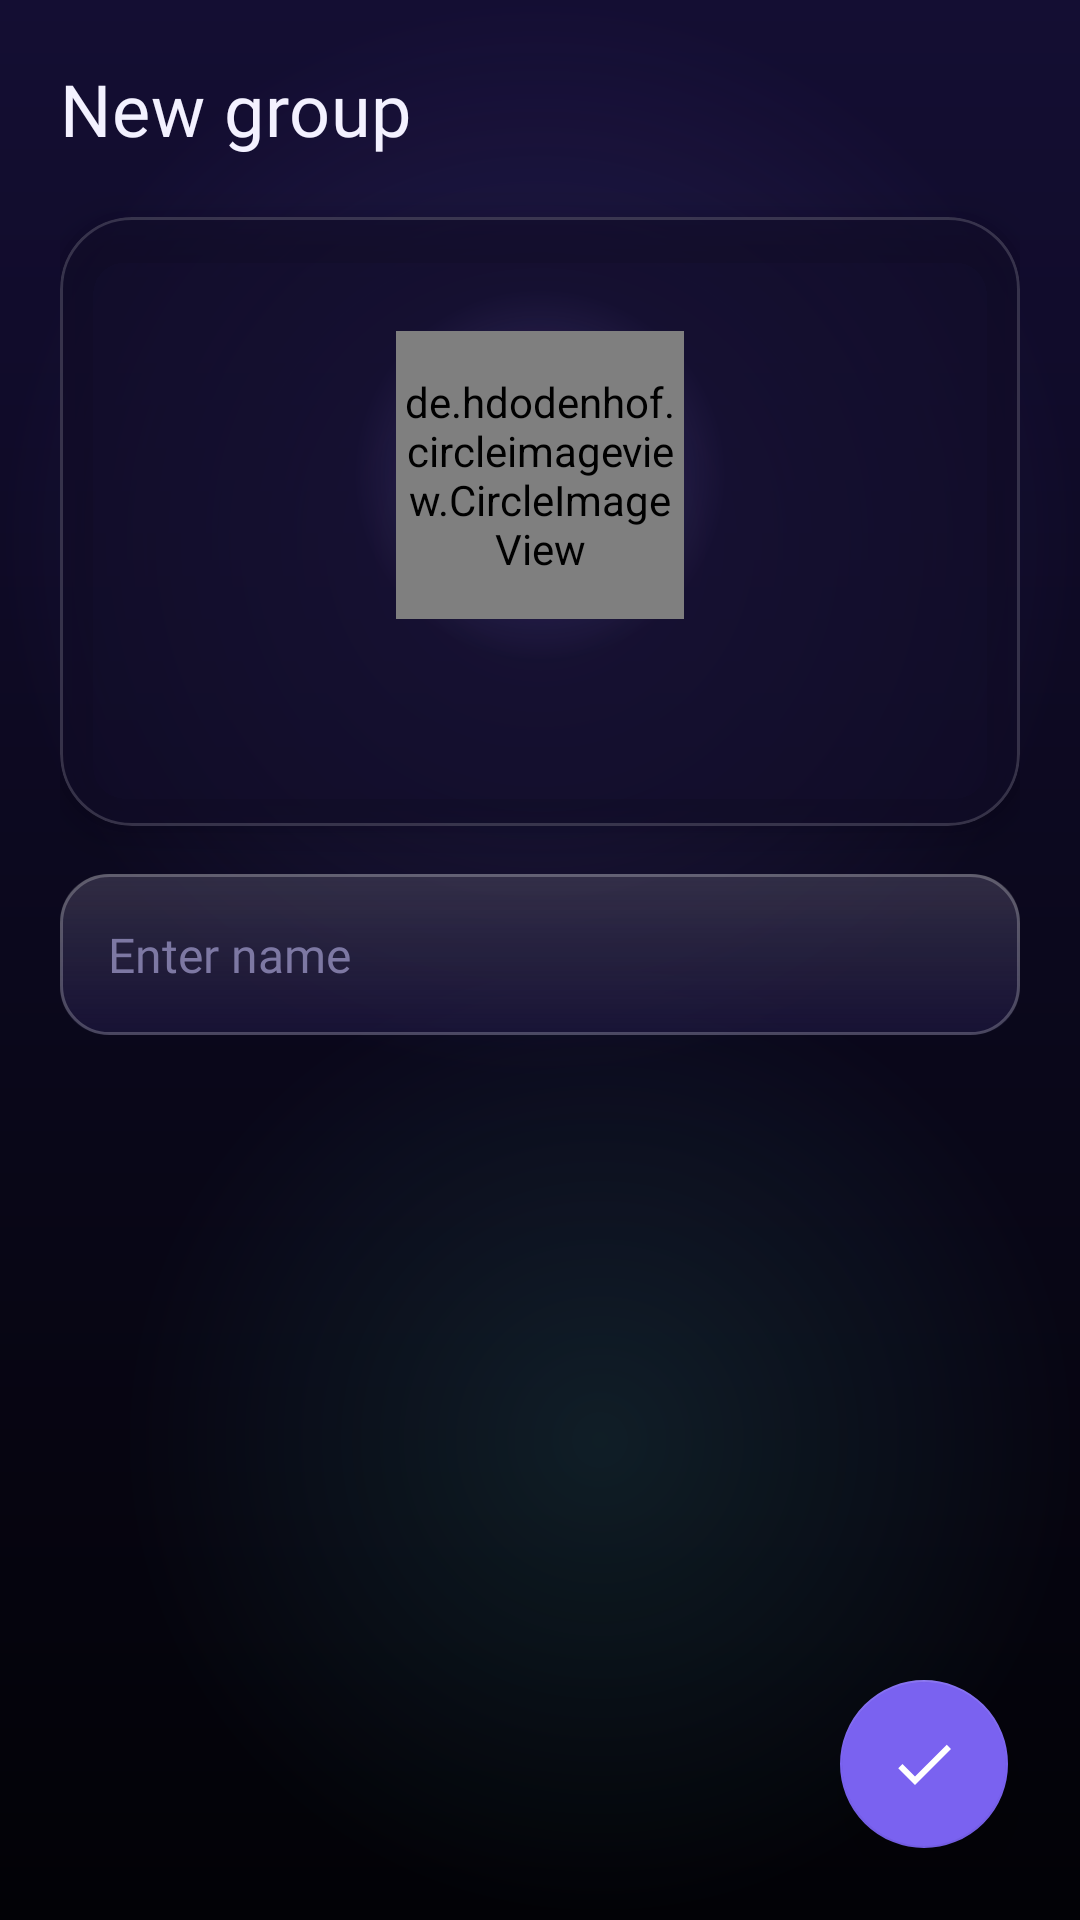

Point at icon controls on the screen. Image size 1080px×1920px, points as [x,y].
check: [924,1764]
